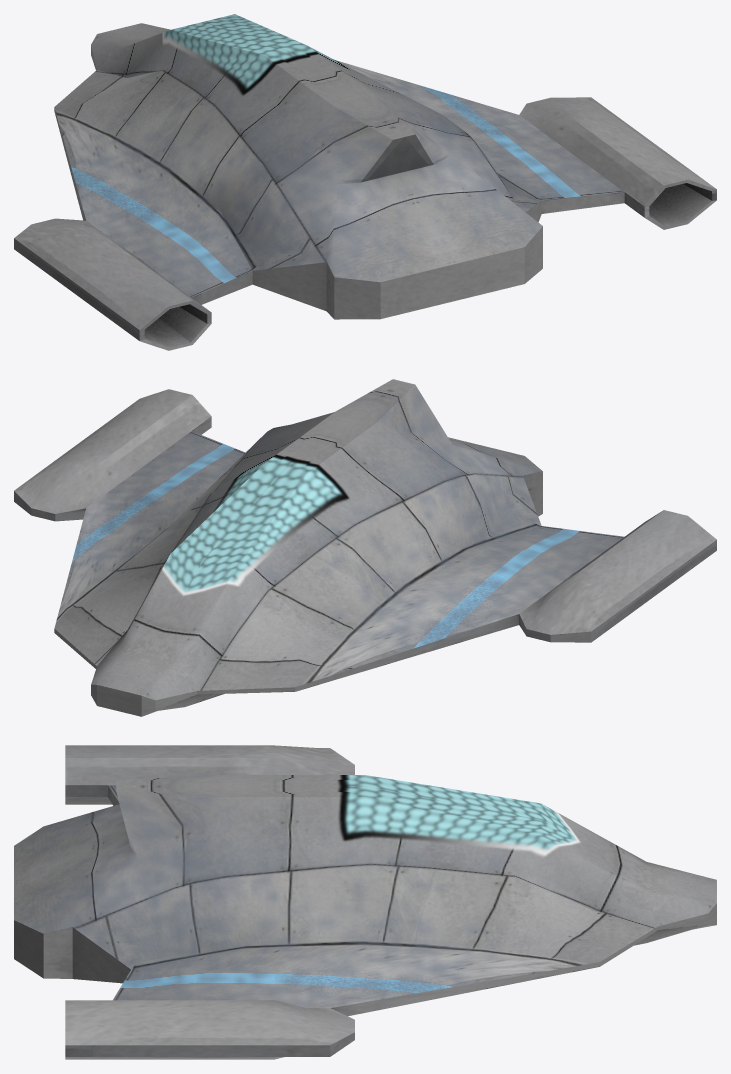
File: SPACESHIP_01.fbx
3 views of the same model, one above another, from view 1: azimuth 30°, elevation 25°; view 2: azimuth 150°, elevation 25°; view 3: azimuth 270°, elevation 25° (orthographic). The views are drawn at different scales.
Visible parts, largest first — view 1: Spaceship_01; view 2: Spaceship_01; view 3: Spaceship_01.
Boxes of the visible parts, x1=… form: Spaceship_01: x1=14, y1=14, x2=716, y2=350; Spaceship_01: x1=14, y1=379, x2=716, y2=716; Spaceship_01: x1=14, y1=745, x2=716, y2=1059.
Bounding box in the file's own units: 400 × 113 × 400.
Materials: 1 (1 with a texture image).
